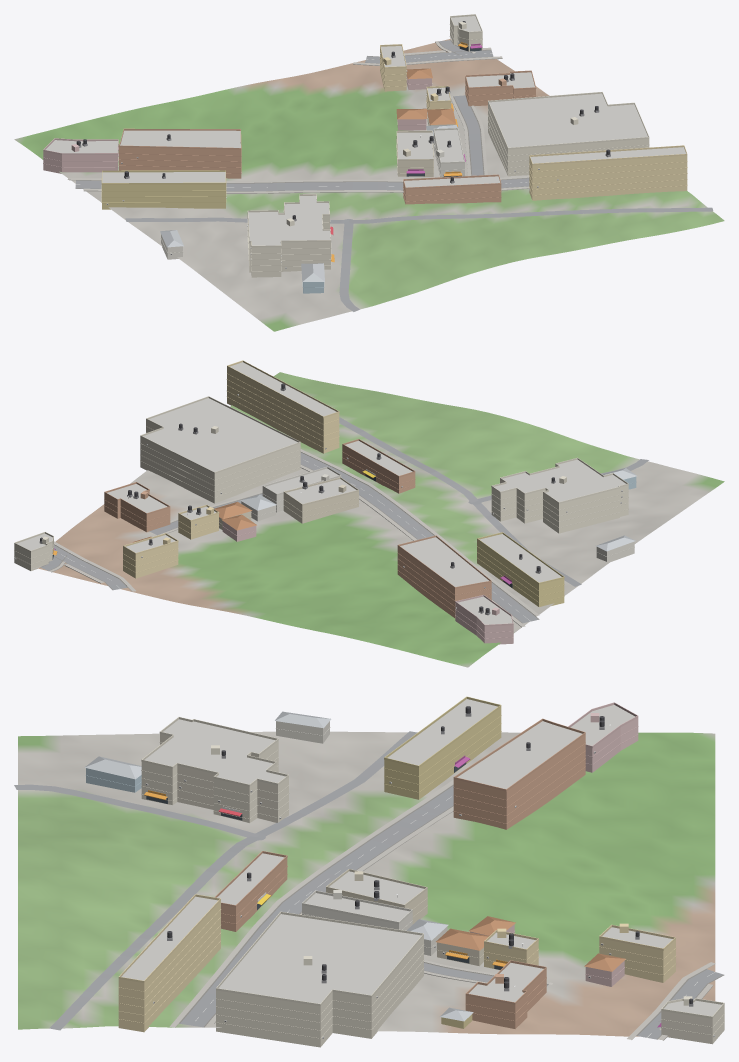
3 renders of one model, top to bottom at view 1: azimuth 30°, elevation 25°; view 2: azimuth 150°, elevation 25°; view 3: azimuth 270°, elevation 25°, orthographic. The views are drawn at different scales.
Parts seen in each view (by area): view 1: Terrain-col, Buildings-col, Details, Roads-col, Sidewalks-col; view 2: Terrain-col, Buildings-col, Details, Roads-col, Sidewalks-col; view 3: Terrain-col, Buildings-col, Details, Roads-col, Sidewalks-col.
Part boxes in pixels (box(x1,y1,x2,y2)): Terrain-col: box(14, 39, 724, 331); Buildings-col: box(43, 16, 687, 293); Details: box(43, 14, 687, 287); Roads-col: box(75, 40, 713, 311); Sidewalks-col: box(67, 36, 529, 193); Terrain-col: box(37, 372, 724, 667); Buildings-col: box(14, 362, 636, 644); Details: box(14, 360, 636, 638); Roads-col: box(40, 417, 648, 623); Sidewalks-col: box(33, 449, 539, 627); Terrain-col: box(18, 731, 715, 1036); Buildings-col: box(84, 699, 724, 1047); Details: box(85, 696, 724, 1038); Roads-col: box(14, 731, 724, 1039); Sidewalks-col: box(169, 780, 715, 1040).
Bounding box in the file's own units: 274 × 27.15 × 261.
